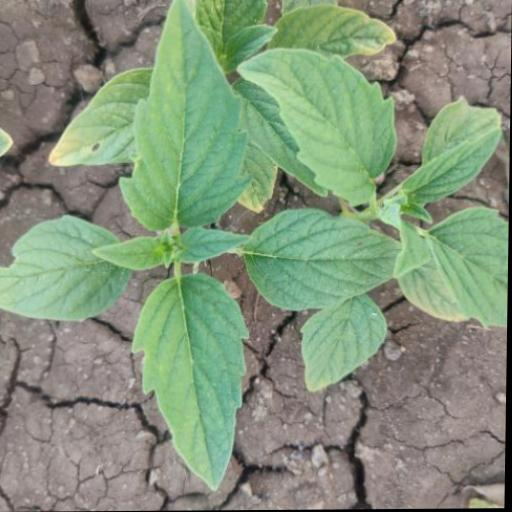crop: (3, 0, 507, 488)
